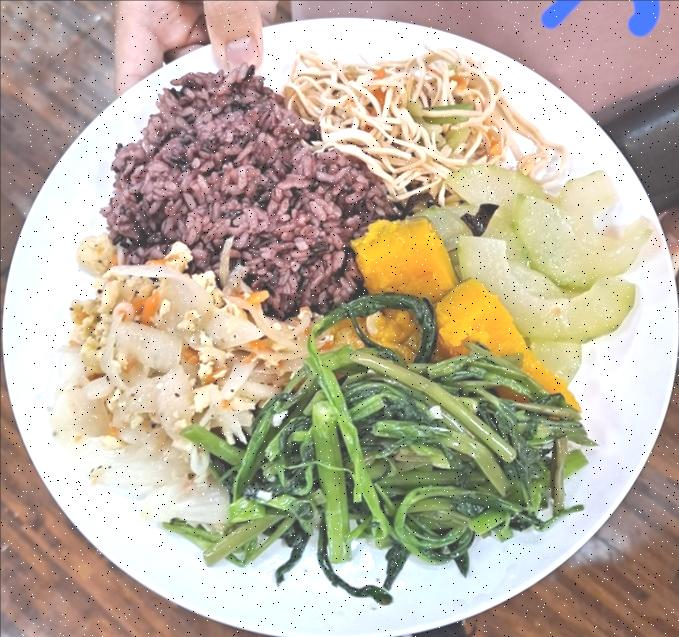plate: (7, 23, 679, 637)
purple rice: (103, 75, 385, 308)
side dish: (215, 351, 575, 576), (61, 246, 316, 486), (435, 160, 652, 340), (288, 38, 503, 203), (353, 216, 530, 359)
